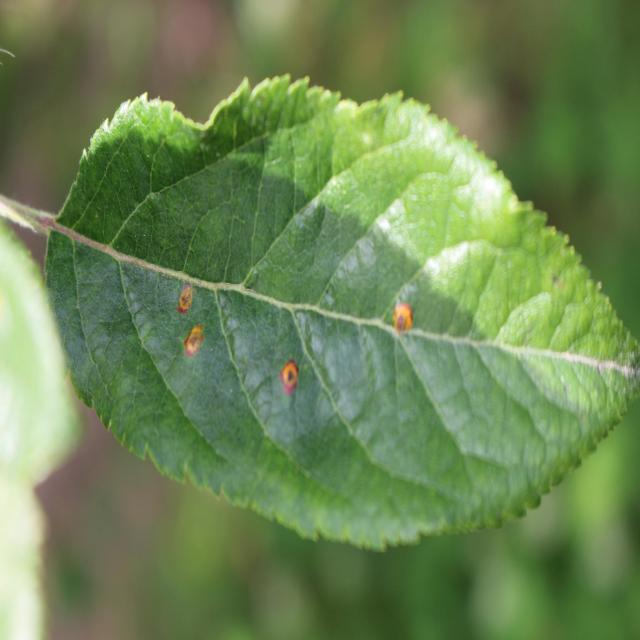rust: (43, 74, 640, 552)
